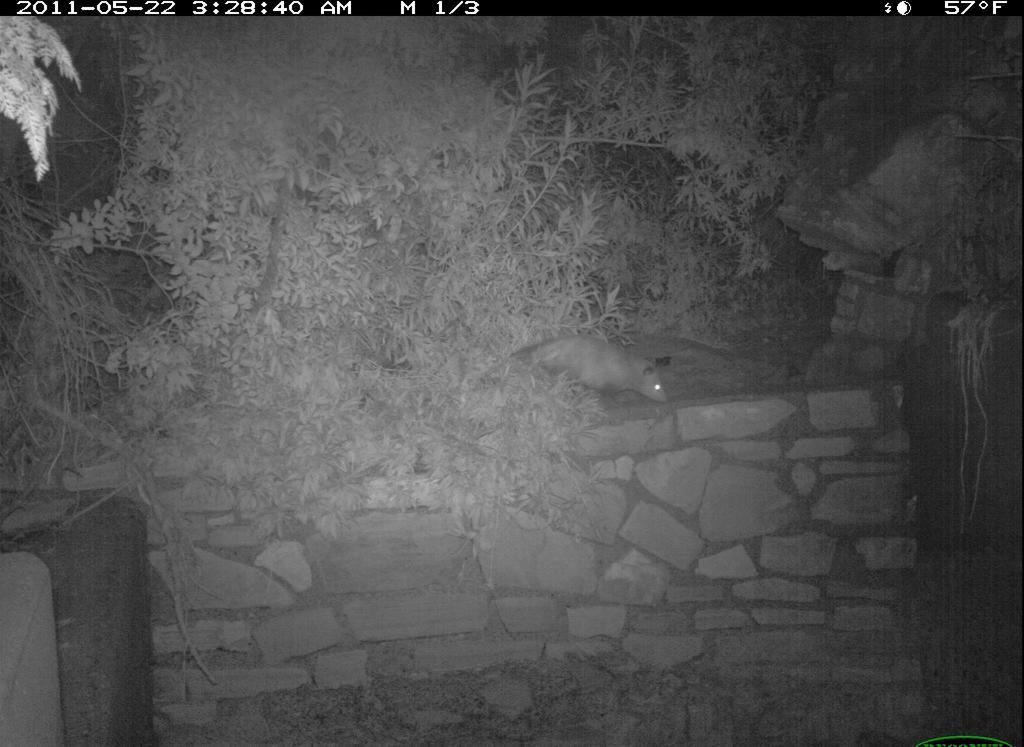opossum: (493, 321, 684, 420)
